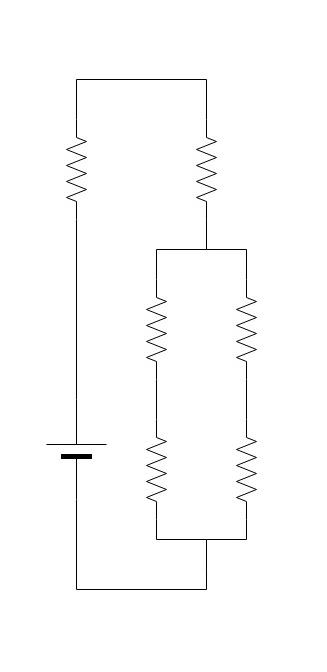resistor: (217, 272, 288, 378), (219, 416, 282, 523), (44, 107, 101, 218), (122, 420, 186, 516), (173, 116, 230, 211), (132, 280, 186, 376)
